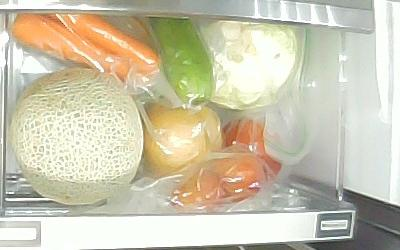cabbage: (198, 19, 297, 110)
carrot_vinyl: (10, 11, 133, 79), (46, 13, 161, 72)
melon: (11, 67, 144, 205)
pear_vinyl: (144, 101, 223, 179)
prune_vinyl: (170, 169, 227, 212), (213, 156, 261, 203)
tomato_vinyl: (222, 117, 282, 184)
zucchini_vinyl: (146, 16, 212, 104)
